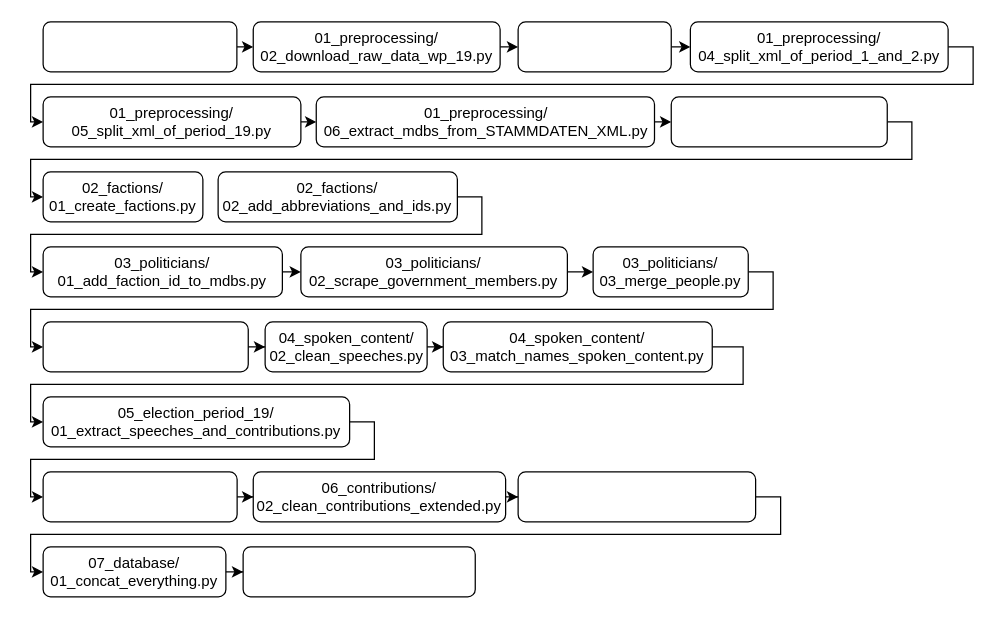
This 1005x619 diagram has some shape labels left out. The centre of each missing label's shape, as x and y in pixels:
"01_preprocessing/ 01_download_raw_data.py" goes at point (139, 46).
"01_preprocessing/ 03_split_xml.py" goes at point (594, 46).
"01_preprocessing/ 07_create_election_periods.py" goes at point (778, 121).
"04_spoken_content/ 01_extract_speech_parts.py" goes at point (145, 346).
"06_contributions/ 01_extract_contributions.py" goes at point (139, 496).
"06_contributions/ 03_match_contributions_extend.py" goes at point (636, 496).
"07_database/ 02_upload_data_to_database.py" goes at point (358, 571).
